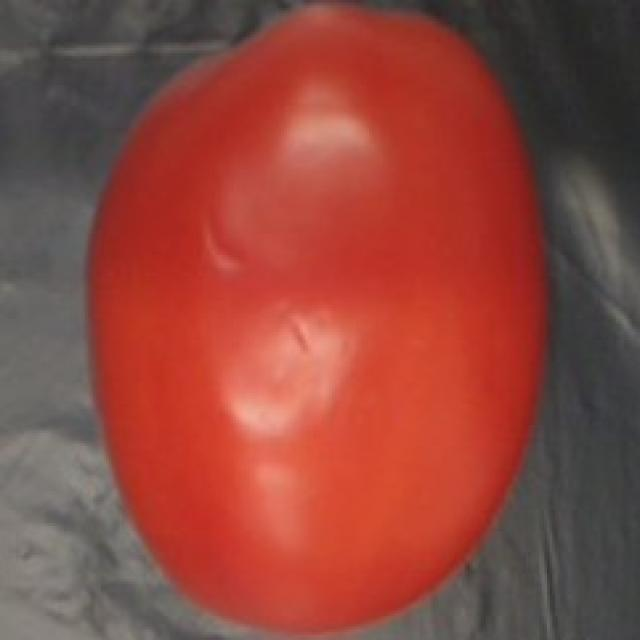ripe tomato: (61, 0, 561, 640)
